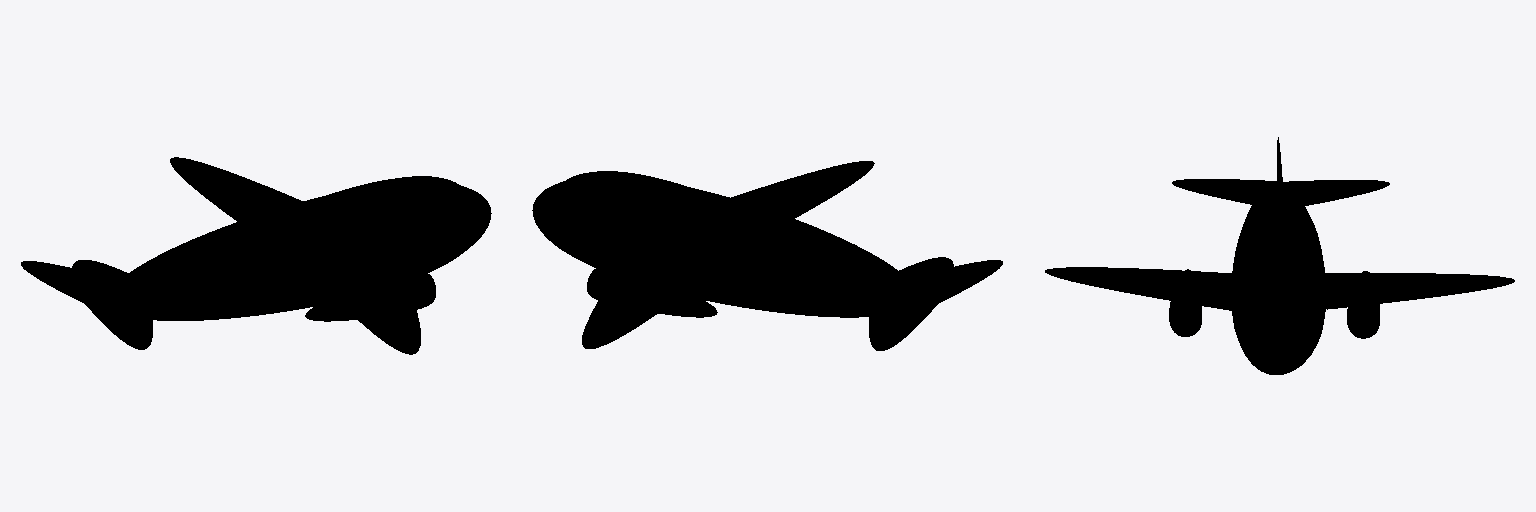
URDF robot description (plane):
<?xml version="1.0" ?>
<robot name="plane">
  <link name="baseLink">
    <contact>
      <lateral_friction value="1.0"/>
      <rolling_friction value="0.0"/>
      <contact_cfm value="0.0"/>
      <contact_erp value="1.0"/>
    </contact>
    <inertial>
      <origin rpy="0 0 0" xyz="0.0049 -0.0003 0.0072"/>
       <mass value="0.007"/>
       <inertia ixx="0.00000031" ixy="0" ixz="0" iyy="0.00000131" iyz="0" izz="0.00000149"/>
    </inertial>
    <visual>
      <origin rpy="0 0 0" xyz="0.0049 -0.0003 0.0072"/>
      <geometry>
        <mesh filename="./stl/plane.stl" scale="0.001 0.001 0.001"/>
      </geometry>
       <material name="black">
        <color rgba="0 0 0 1"/>
      </material>
    </visual>
    <collision concave="yes">
      <origin rpy="0 0 0" xyz="0.0049 -0.0003 0.0072"/>
      <geometry>
	 	<mesh filename="./stl/plane.stl" scale="0.001 0.001 0.001"/>
      </geometry>
    </collision>
  </link>
</robot>

--- Render facts (derived) ---
The picture shows the robot from 3 angles, left to right: view 1: azimuth 30°, elevation 25°; view 2: azimuth 150°, elevation 25°; view 3: azimuth 270°, elevation 25°; orthographic projection.
Robot: plane — 1 links, 0 joints (none); root link baseLink; default pose: every joint at zero.
Visible links, largest first — view 1: baseLink; view 2: baseLink; view 3: baseLink.
Boxes of the visible links, x1,y1,x2,y2 form: baseLink: (21, 157, 491, 354); baseLink: (532, 161, 1002, 350); baseLink: (1045, 137, 1514, 374).
Size in the robot's own frame: 0.0656 by 0.0714 by 0.0147 metres.
1 mesh visuals loaded from 1 distinct referenced files (1 binary STL).
